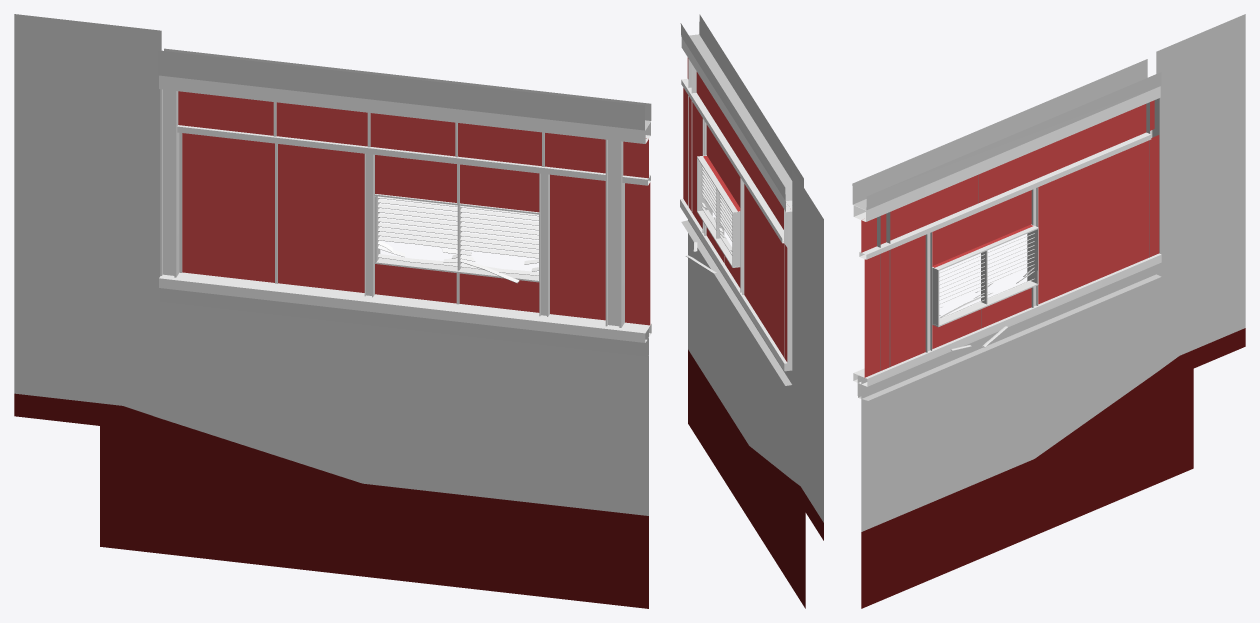
File: SM_H_Building_Tide_Jail_C_01_ATLAS.fbx
The picture shows the model from 3 angles, left to right: view 1: azimuth 30°, elevation 25°; view 2: azimuth 150°, elevation 25°; view 3: azimuth 270°, elevation 25°; orthographic projection. The views are drawn at different scales.
Parts seen in each view (by area): view 1: SM_H_Building_Tide_Jail_C_01_ATLAS; view 2: SM_H_Building_Tide_Jail_C_01_ATLAS; view 3: SM_H_Building_Tide_Jail_C_01_ATLAS.
Boxes of the visible parts, box(x1,y1,x2,y2) form: SM_H_Building_Tide_Jail_C_01_ATLAS: box(14, 14, 651, 608); SM_H_Building_Tide_Jail_C_01_ATLAS: box(680, 14, 823, 608); SM_H_Building_Tide_Jail_C_01_ATLAS: box(852, 14, 1245, 608).
Size of the model in its own units: 1343 by 1354 by 1644.
